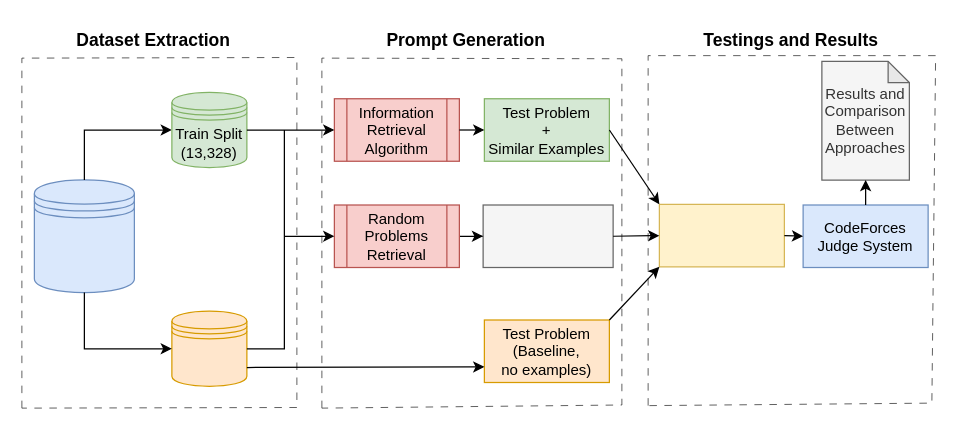
This 959x431 diagram has some shape labels left out. Here are the shapes that lost their labels. From the top down, the centre of each, then its label:
At point 83,235: "CodeContests DataBase".
At point 547,236: "Test Problem + Random Examples".
At point 721,235: "Prompts + Instructions sent to LLMs".
At point 209,348: "Test Split (165)".
